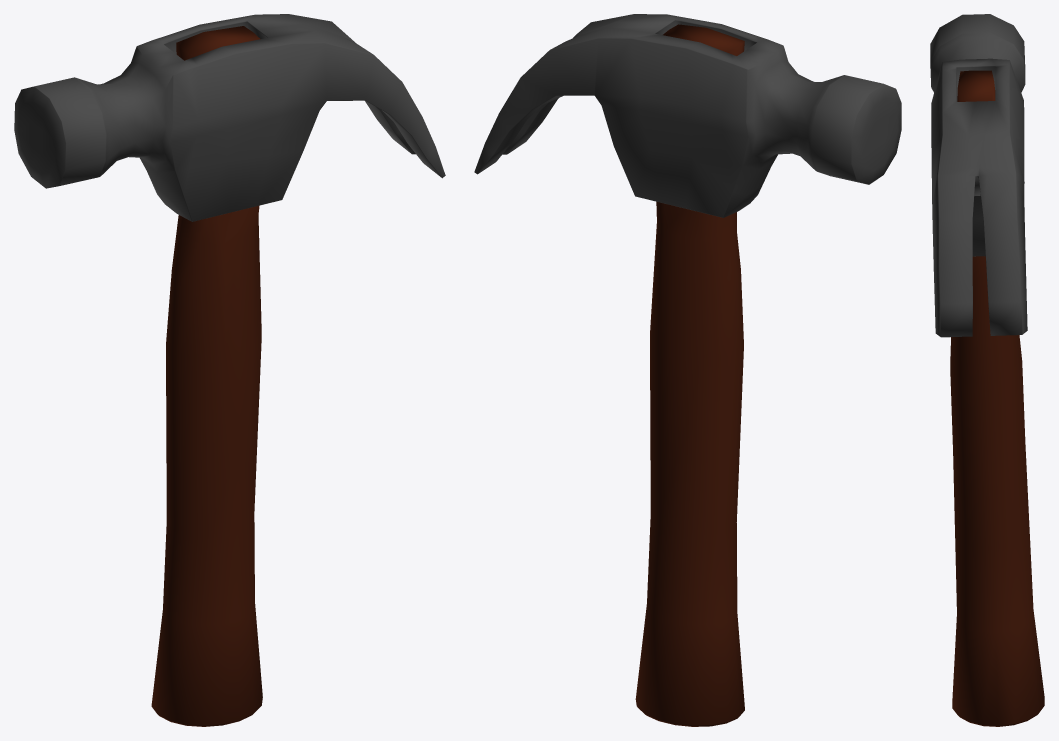
File: Hammer.dae
3 renders of one model, left to right at view 1: azimuth 30°, elevation 25°; view 2: azimuth 150°, elevation 25°; view 3: azimuth 270°, elevation 25°, orthographic. The views are drawn at different scales.
Parts seen in each view (by area): view 1: Hammer03_Box01, Hammer03_Cylinder01; view 2: Hammer03_Cylinder01, Hammer03_Box01; view 3: Hammer03_Cylinder01, Hammer03_Box01.
Boxes of the visible parts, x1,y1,x2,y2 form: Hammer03_Box01: [14, 14, 445, 221]; Hammer03_Cylinder01: [151, 26, 262, 726]; Hammer03_Cylinder01: [635, 24, 744, 726]; Hammer03_Box01: [474, 14, 901, 217]; Hammer03_Cylinder01: [950, 70, 1044, 726]; Hammer03_Box01: [930, 14, 1027, 337].
Bounding box in the file's own units: 6.26 × 10.43 × 1.73.
